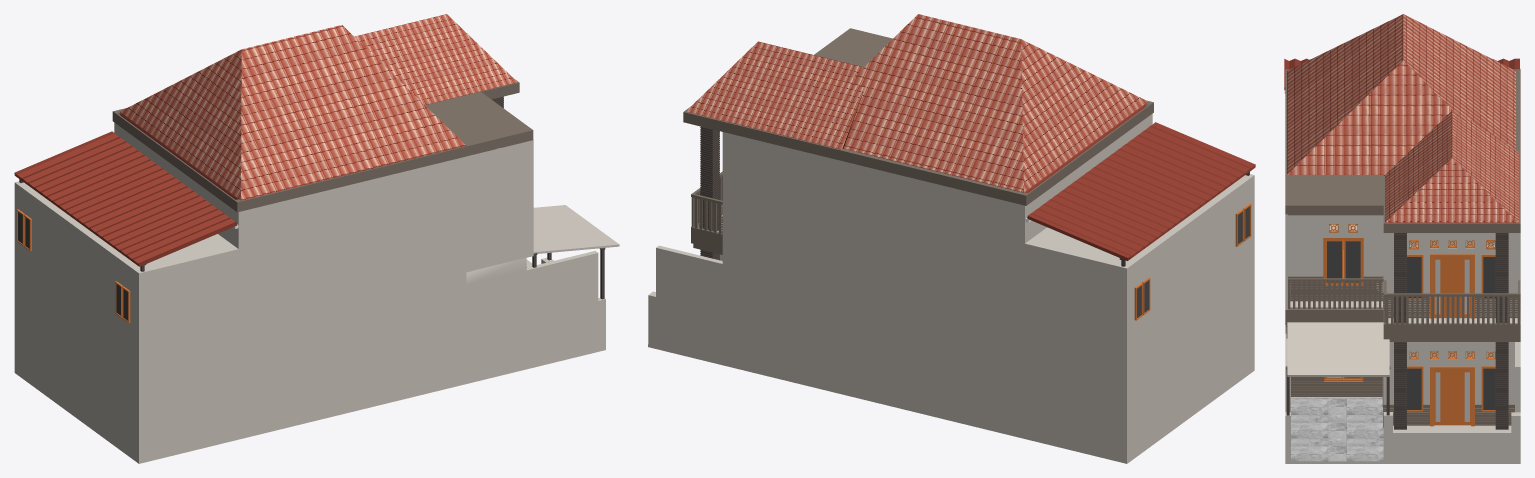
The model's file is med_density.glb.
3 renders of one model, left to right at view 1: azimuth 30°, elevation 25°; view 2: azimuth 150°, elevation 25°; view 3: azimuth 270°, elevation 25°, orthographic. The views are drawn at different scales.
Parts seen in each view (by area): view 1: Cube.001, delete.003, delete.002, delete.005, Cube.006; view 2: Cube.001, delete.003, delete.002, delete.005, tiang.001, delete.012; view 3: Cube.001, delete.003, delete.005, Cube.006, delete.009, tiang.001, tiang, Pintui, Pintui.001, delete.006, Cube.010, Cube.014 (+14 smaller).
Part boxes in pixels (left/top/right/bottom): Cube.001: left=14, top=79, right=605, bottom=463; delete.003: left=120, top=25, right=465, bottom=200; delete.002: left=14, top=131, right=237, bottom=266; delete.005: left=354, top=14, right=517, bottom=104; Cube.006: left=533, top=205, right=619, bottom=253; Cube.001: left=648, top=28, right=1254, bottom=463; delete.003: left=843, top=14, right=1148, bottom=192; delete.002: left=1027, top=122, right=1255, bottom=260; delete.005: left=685, top=41, right=864, bottom=149; tiang.001: left=700, top=126, right=719, bottom=260; delete.012: left=694, top=198, right=721, bottom=233; Cube.001: left=1285, top=68, right=1520, bottom=463; delete.003: left=1287, top=14, right=1515, bottom=175; delete.005: left=1385, top=111, right=1518, bottom=222; Cube.006: left=1287, top=322, right=1389, bottom=376; delete.009: left=1386, top=296, right=1519, bottom=324; tiang.001: left=1495, top=233, right=1508, bottom=429; tiang: left=1394, top=233, right=1406, bottom=429; Pintui: left=1434, top=369, right=1470, bottom=425; Pintui.001: left=1434, top=256, right=1470, bottom=317; delete.006: left=1288, top=281, right=1381, bottom=308; Cube.010: left=1291, top=381, right=1382, bottom=396; Cube.014: left=1290, top=281, right=1382, bottom=301.
Size of the model in its own units: 27.01 by 17.48 by 12.06.
12 materials, 2 textured.
